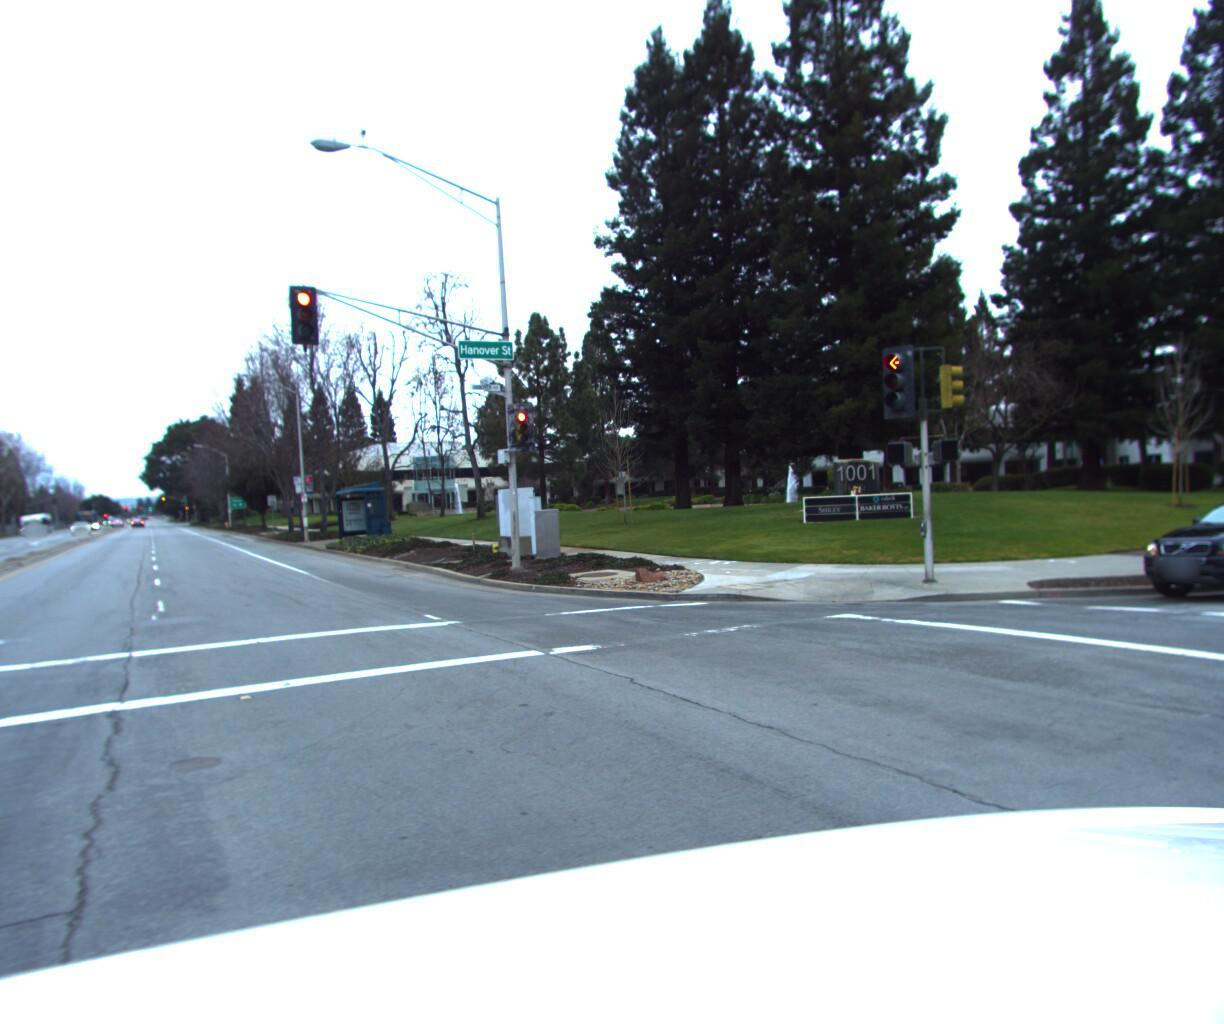car: (1117, 460, 1224, 604)
